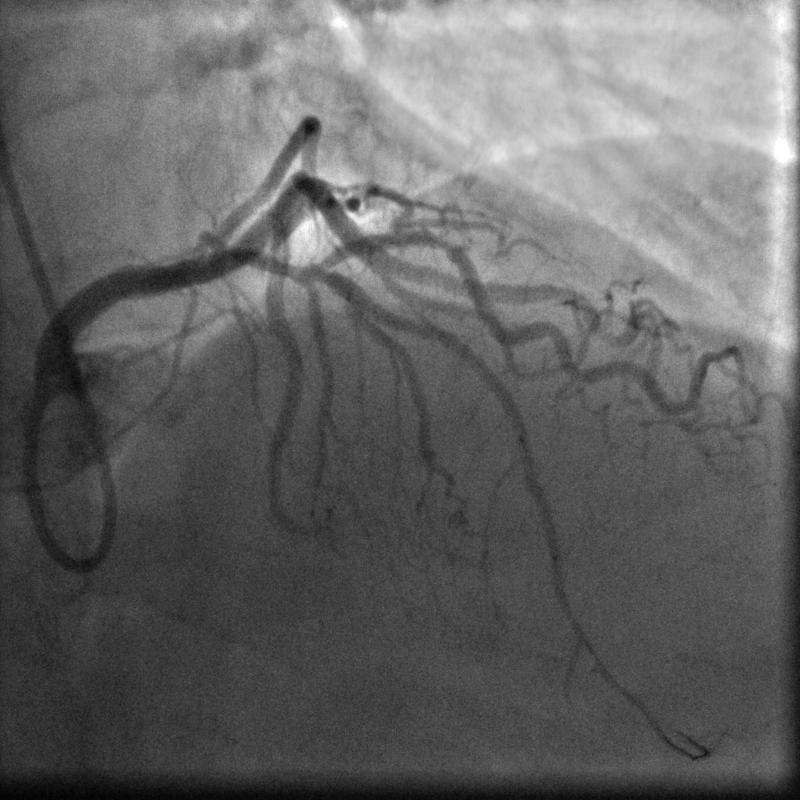Stenosis: (418, 227, 466, 265)
